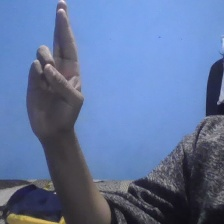R: (20, 1, 88, 139)
